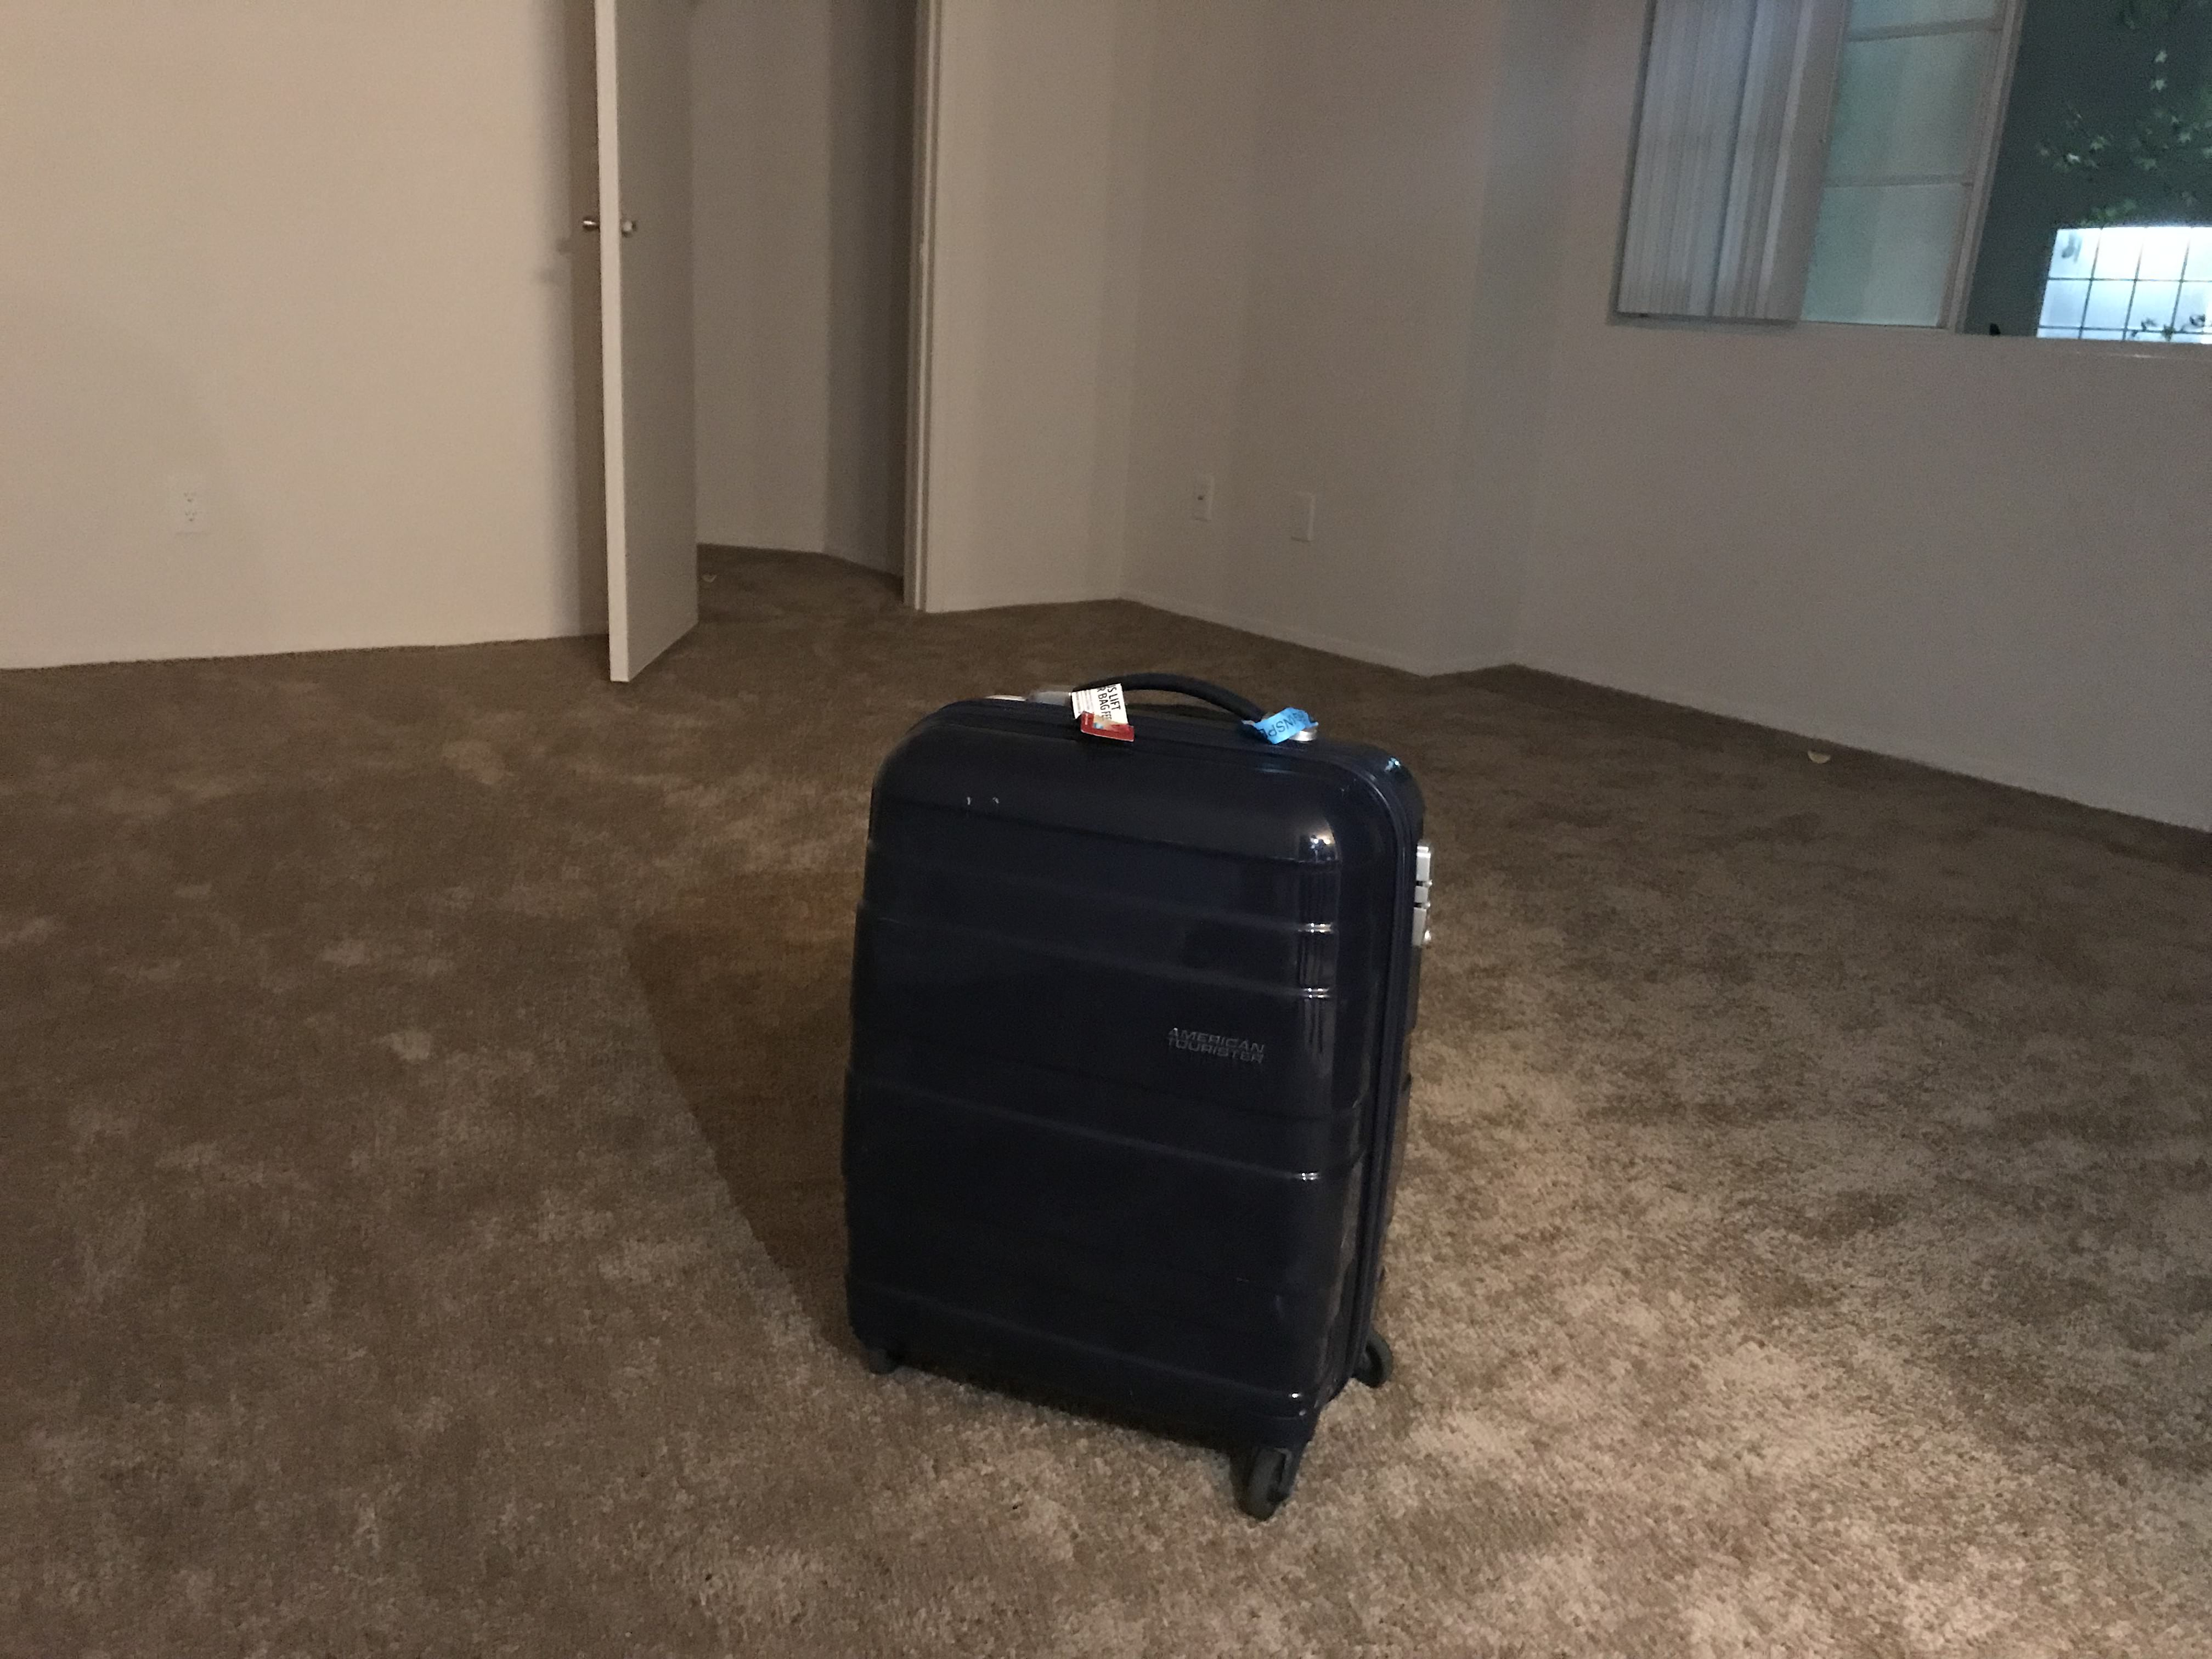Obstacle: (1132, 5, 2209, 838), (17, 5, 1130, 673), (852, 666, 1440, 1513)
